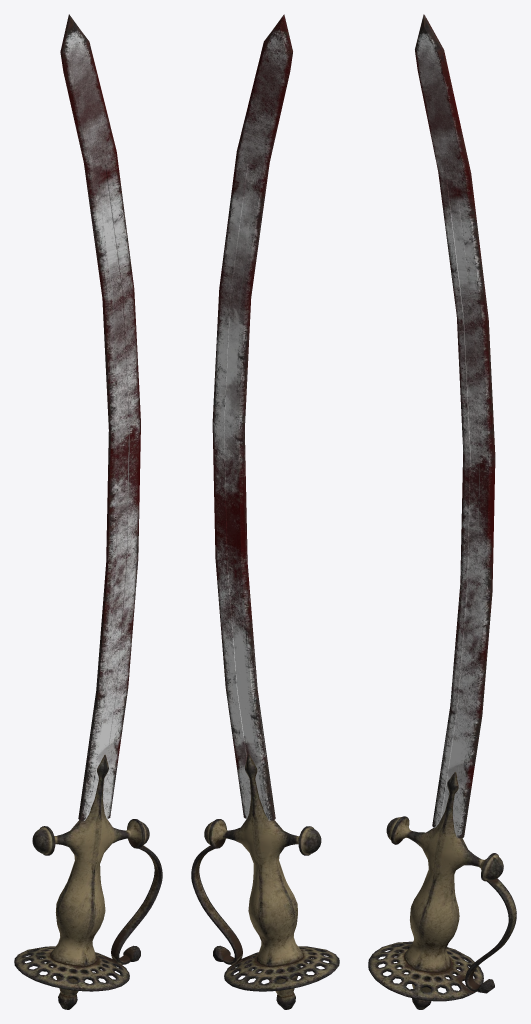
Rendered from raider_talwar.glb.
3 views of the same model, side by side, from view 1: azimuth 30°, elevation 25°; view 2: azimuth 150°, elevation 25°; view 3: azimuth 330°, elevation 25° (orthographic).
Visible parts, largest first — view 1: Box001_body_0, Cylinder001_handle_0, Cylinder002_handle_0, Line001_handle_0; view 2: Box001_body_0, Cylinder001_handle_0, Cylinder002_handle_0, Line001_handle_0; view 3: Box001_body_0, Cylinder001_handle_0, Cylinder002_handle_0, Line001_handle_0.
Boxes of the visible parts, box(x1,y1,x2,y2) form: Box001_body_0: box(60, 14, 140, 820); Cylinder001_handle_0: box(32, 755, 149, 1009); Cylinder002_handle_0: box(14, 946, 129, 991); Line001_handle_0: box(111, 845, 162, 964); Box001_body_0: box(212, 14, 292, 820); Cylinder001_handle_0: box(204, 754, 321, 1009); Cylinder002_handle_0: box(224, 946, 339, 991); Line001_handle_0: box(191, 845, 242, 964); Box001_body_0: box(415, 14, 495, 838); Cylinder001_handle_0: box(386, 772, 503, 1009); Cylinder002_handle_0: box(368, 941, 483, 1001); Line001_handle_0: box(465, 878, 516, 993).
Size of the model in its own units: 0.1387 by 0.95 by 0.101.
Materials: 2 (2 with a texture image).
